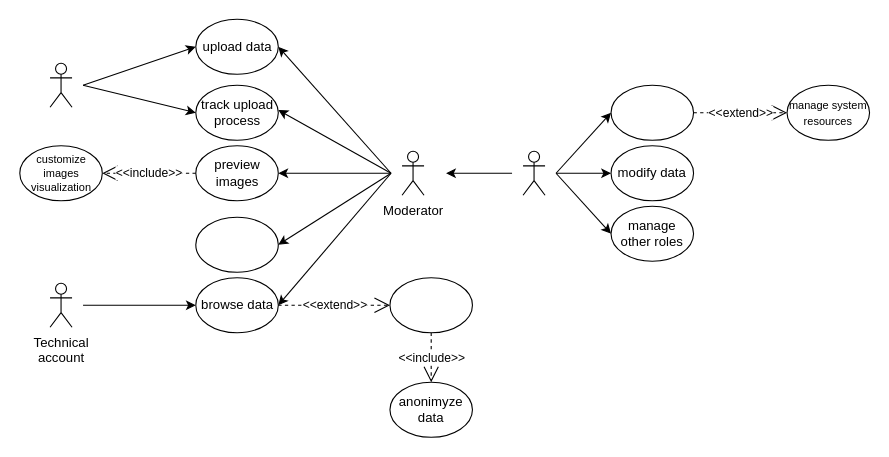
Image size: 889x457. Some labels were removed from this diagram. Here are the shapes that lost their labels. From the top down, the centre of each, then its label:
At (60,84): "Uploader".
At (652,112): "monitor system".
At (533,172): "Admin".
At (236,244): "deanonimyze data".
At (430,305): "download data".
